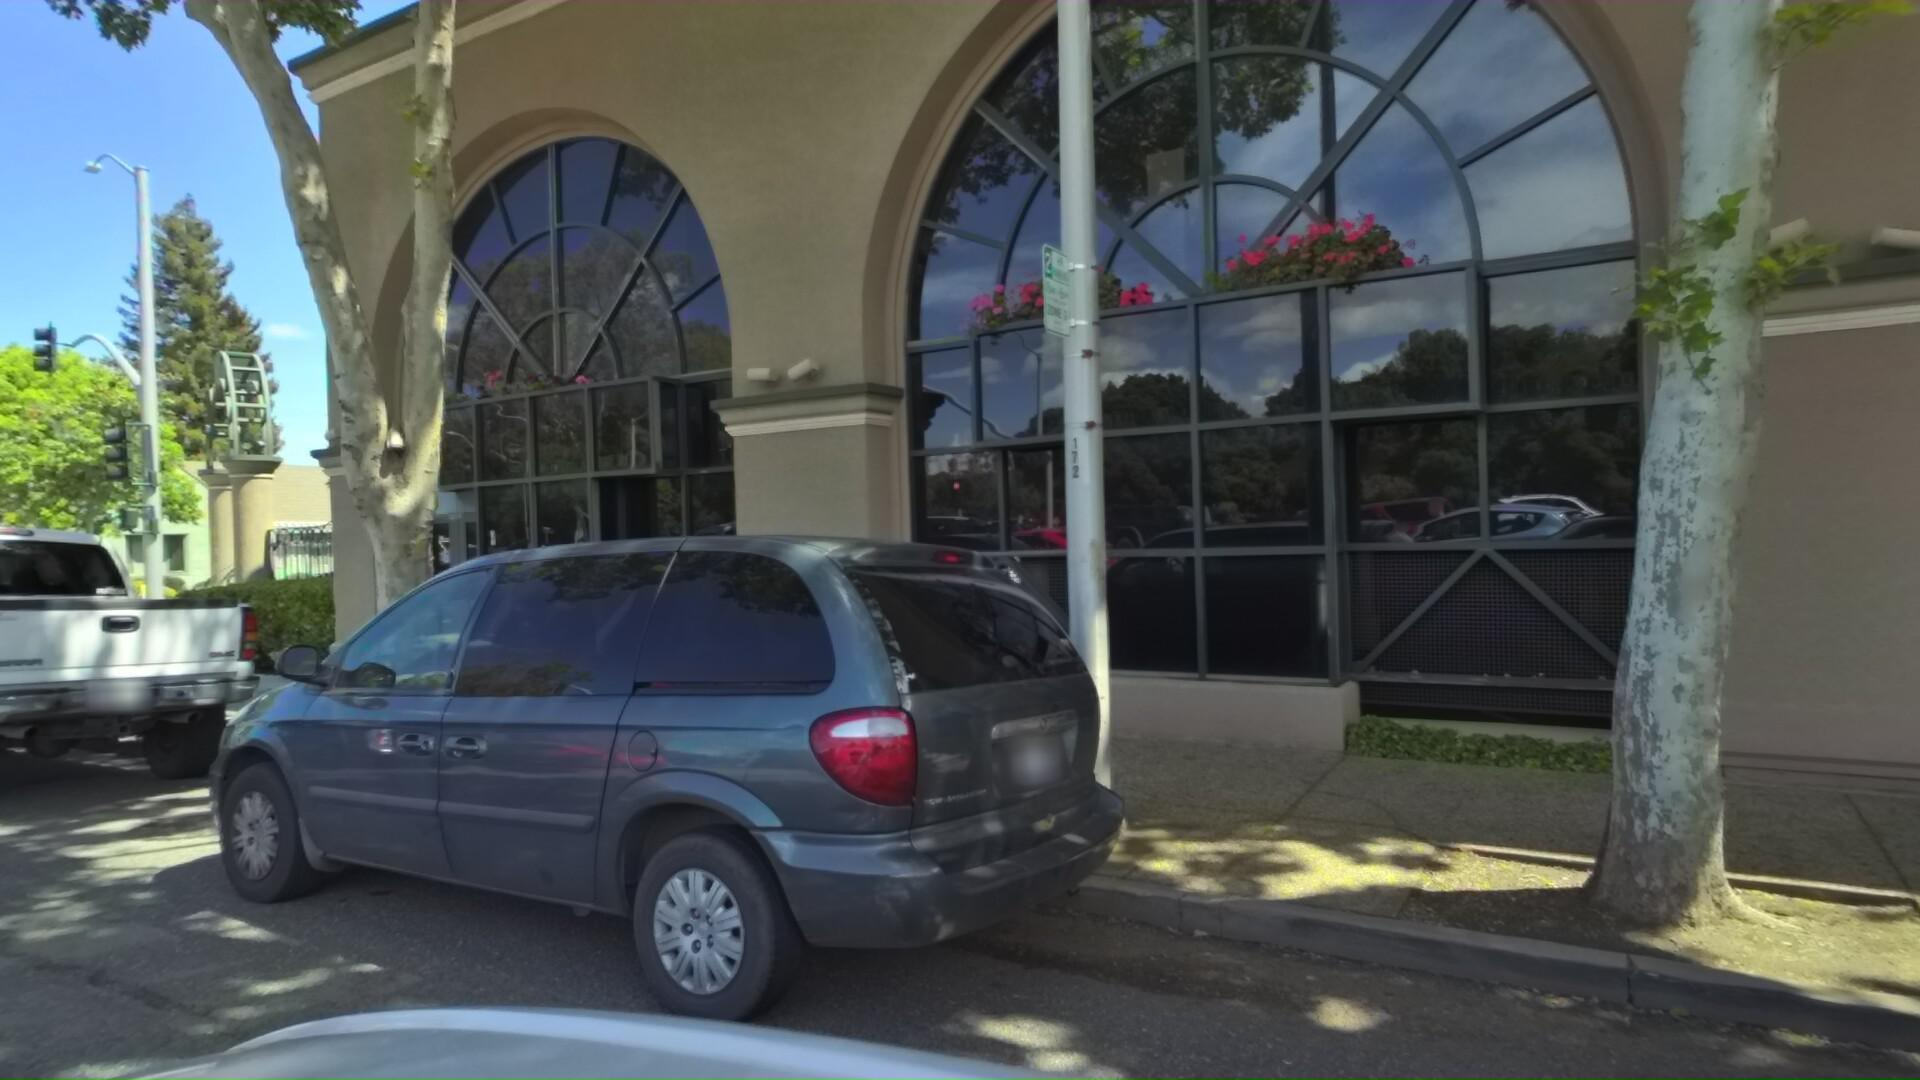car: (96, 505, 1153, 1080), (0, 496, 294, 865)
